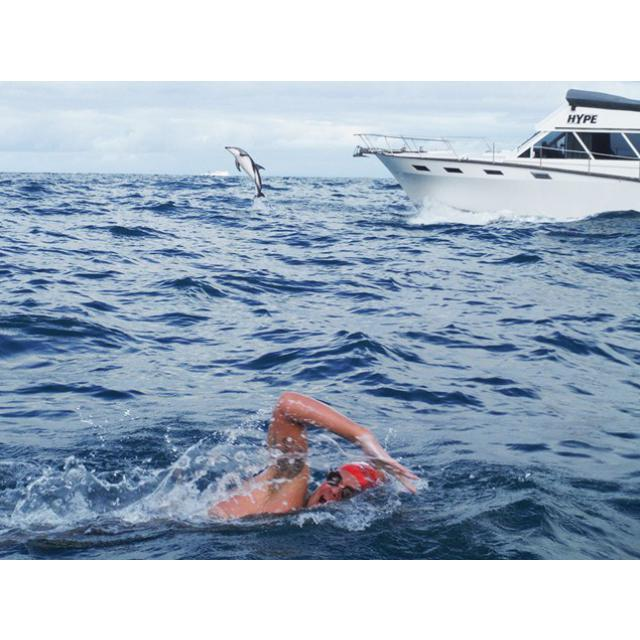human: (208, 388, 420, 530)
